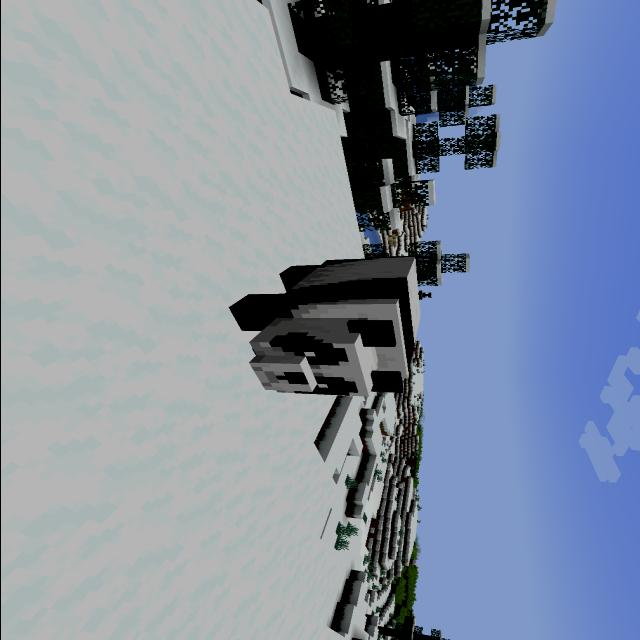Panda: (206, 245, 436, 409)
